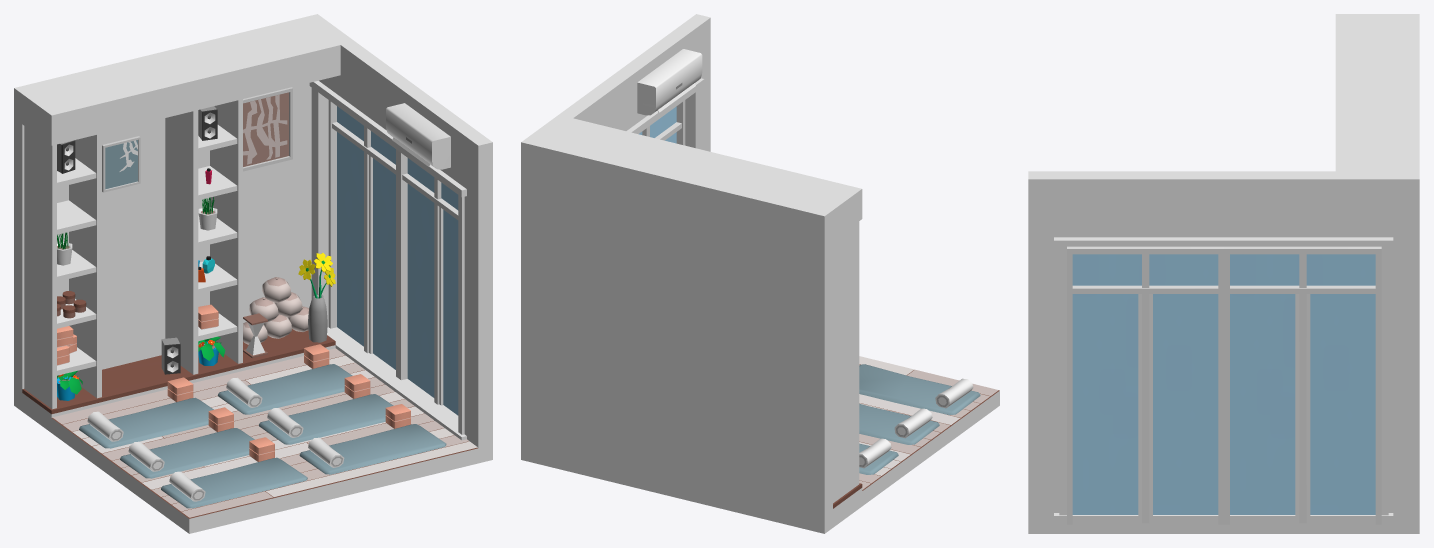
Rendered from room_27.glb.
The picture shows the model from 3 angles, left to right: view 1: azimuth 30°, elevation 25°; view 2: azimuth 150°, elevation 25°; view 3: azimuth 270°, elevation 25°; orthographic projection. The views are drawn at different scales.
Parts seen in each view (by area): view 1: Walls_006.062, Walls_005.489, window_009.002, floor_017.002, window_009.001, Walls_006.064, Walls_009.007, Walls_005.490, Walls_005.492, Walls_006.065, Walls_005.493, Walls_005.491 (+31 smaller); view 2: Walls_006.062, Walls_005.489, Walls_005.490, Walls_006.063, Walls_006.065, bed_012.001, floor_017.002, Walls_009.007, electronics_027.006, bed_012.002, Walls_006.064, window_009.001 (+3 smaller); view 3: window_009.002, window_009.001, Walls_006.065, Walls_006.063, Walls_006.064, Walls_005.489, Walls_005.485, Walls_006.066, Walls_006.062, Walls_005.488, Walls_005.487, Walls_005.486.
Part boxes in pixels (<box>): Walls_006.062: <box>14,17,311,411</box>; Walls_005.489: <box>22,23,340,145</box>; window_009.002: <box>328,100,398,377</box>; floor_017.002: <box>52,348,477,517</box>; window_009.001: <box>398,151,458,415</box>; Walls_006.064: <box>461,129,492,463</box>; Walls_009.007: <box>22,355,478,533</box>; Walls_005.490: <box>24,126,56,409</box>; Walls_005.492: <box>165,110,198,374</box>; Walls_006.065: <box>320,27,474,184</box>; Walls_005.493: <box>210,99,242,363</box>; Walls_005.491: <box>69,133,101,398</box>; Walls_006.062: <box>535,140,832,533</box>; Walls_005.489: <box>544,118,862,239</box>; Walls_005.490: <box>833,221,859,503</box>; Walls_006.063: <box>521,129,552,463</box>; Walls_006.065: <box>539,27,693,132</box>; bed_012.001: <box>859,364,980,415</box>; floor_017.002: <box>859,356,998,489</box>; Walls_009.007: <box>833,364,999,527</box>; electronics_027.006: <box>637,49,702,115</box>; bed_012.002: <box>859,403,939,444</box>; Walls_006.064: <box>679,14,710,151</box>; window_009.001: <box>639,100,685,145</box>; window_009.002: <box>1224,246,1381,524</box>; window_009.001: <box>1067,246,1224,524</box>; Walls_006.065: <box>1067,171,1380,237</box>; Walls_006.063: <box>1380,171,1419,533</box>; Walls_006.064: <box>1028,171,1067,533</box>; Walls_005.489: <box>1335,14,1400,171</box>; Walls_005.485: <box>1054,237,1393,248</box>; Walls_006.066: <box>1067,523,1380,533</box>; Walls_006.062: <box>1401,14,1419,171</box>; Walls_005.488: <box>1054,513,1393,523</box>; Walls_005.487: <box>1059,248,1066,524</box>; Walls_005.486: <box>1381,248,1388,524</box>.
Bounding box in the file's own units: 4.34 × 4.22 × 4.2.
1 material, 1 textured.
